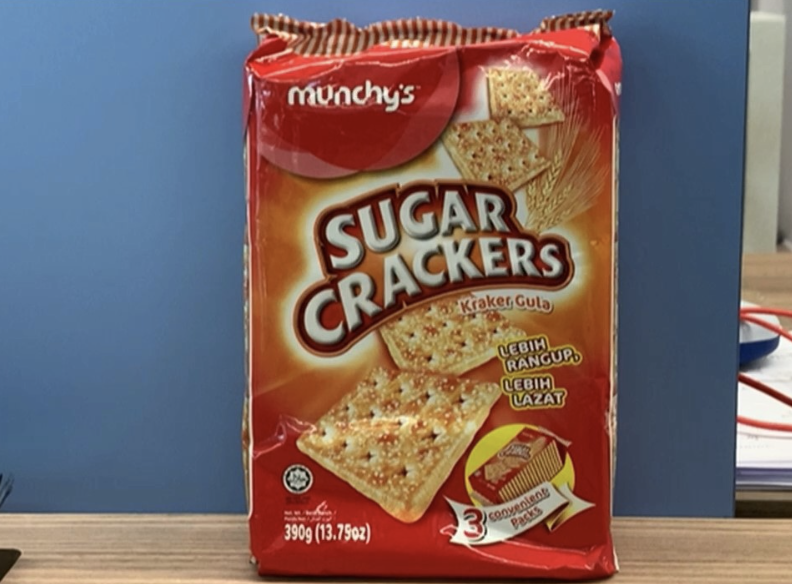crackers_150g: (271, 67, 591, 552)
